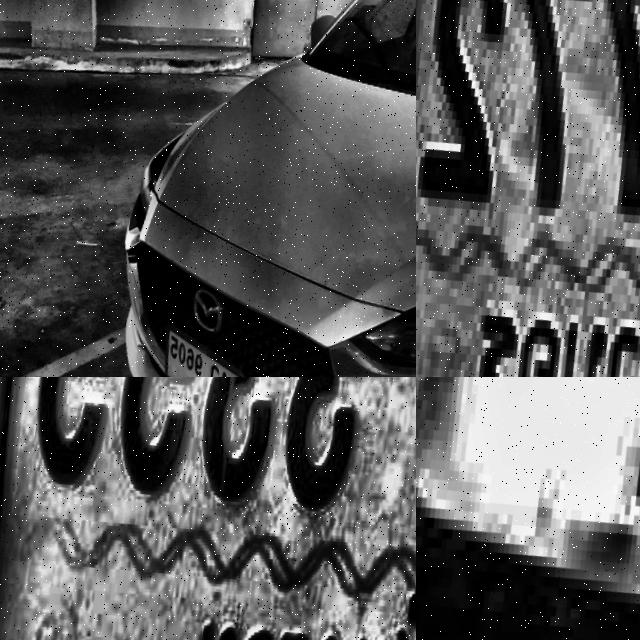license-plate: (0, 377, 416, 640), (416, 0, 640, 377), (416, 377, 640, 640), (144, 319, 250, 377)
